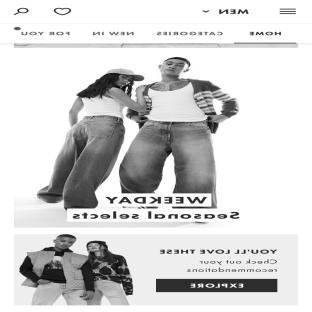Dropdown: (198, 7, 250, 18)
Hamburger icon: (272, 6, 297, 17)
Search Icon: (10, 5, 34, 18)
button: (151, 277, 279, 294)
dopeb: (62, 210, 245, 223), (90, 191, 216, 208)
love icon: (51, 6, 77, 17)
